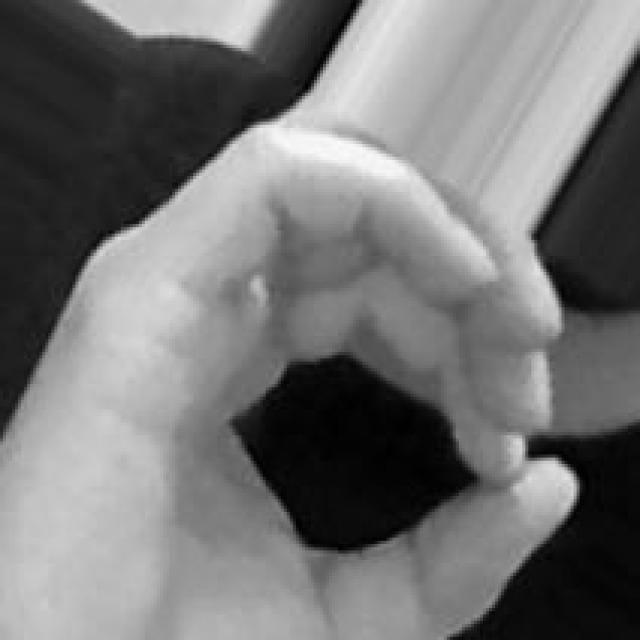O: (3, 107, 583, 640)
